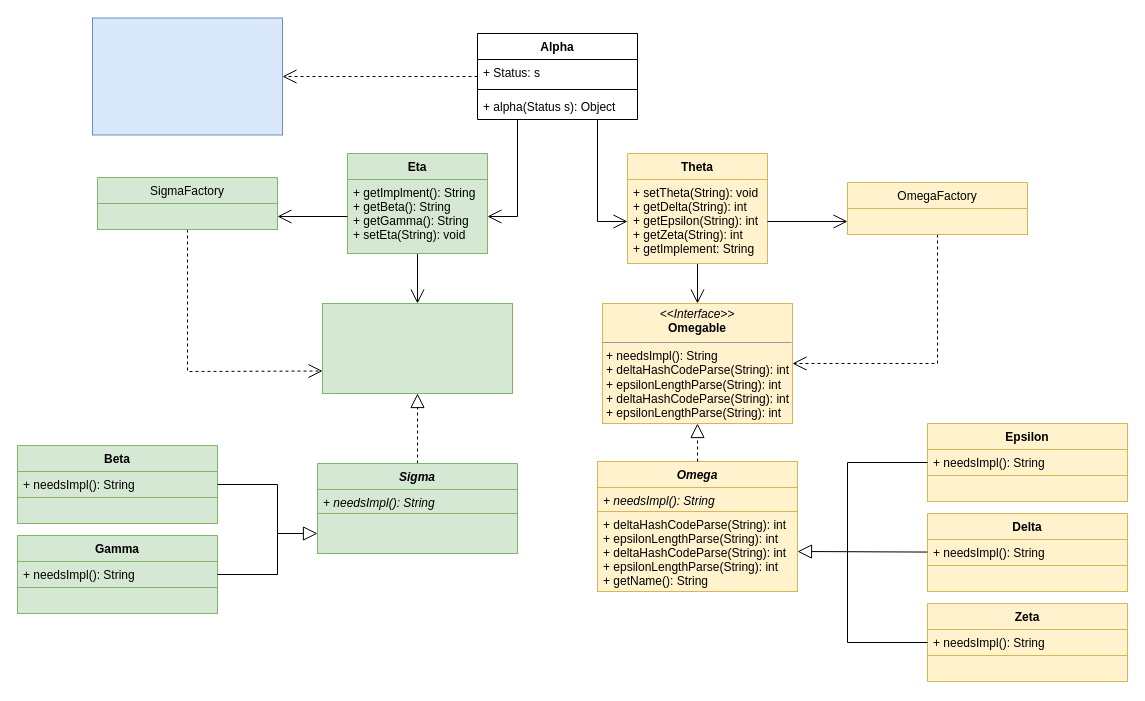
Image size: 1145x701. Some labels were removed from this diagram. The centre of each missing label's shape, as x and y in pixels:
+ beta(): String: [117,510]
+ deltaHashCodeParse(String): int: [1027,578]
+ epsilonLengthParse(String): int: [1027,488]
+ gamma(): String: [117,600]
+ gamma(): String + beta(): String: [417,533]
+ getOmega(String): Omegable: [937,221]
+ getSigma(String): Sigmable: [187,216]
+ zetaStringParse(String): String: [1027,668]
<<Enumeration>> Status Slight Low Medium High Extreme: [187,76]
<<Interface>> Sigmable + needsImpl(): String + gamma(): String + beta(): String: [417,348]
